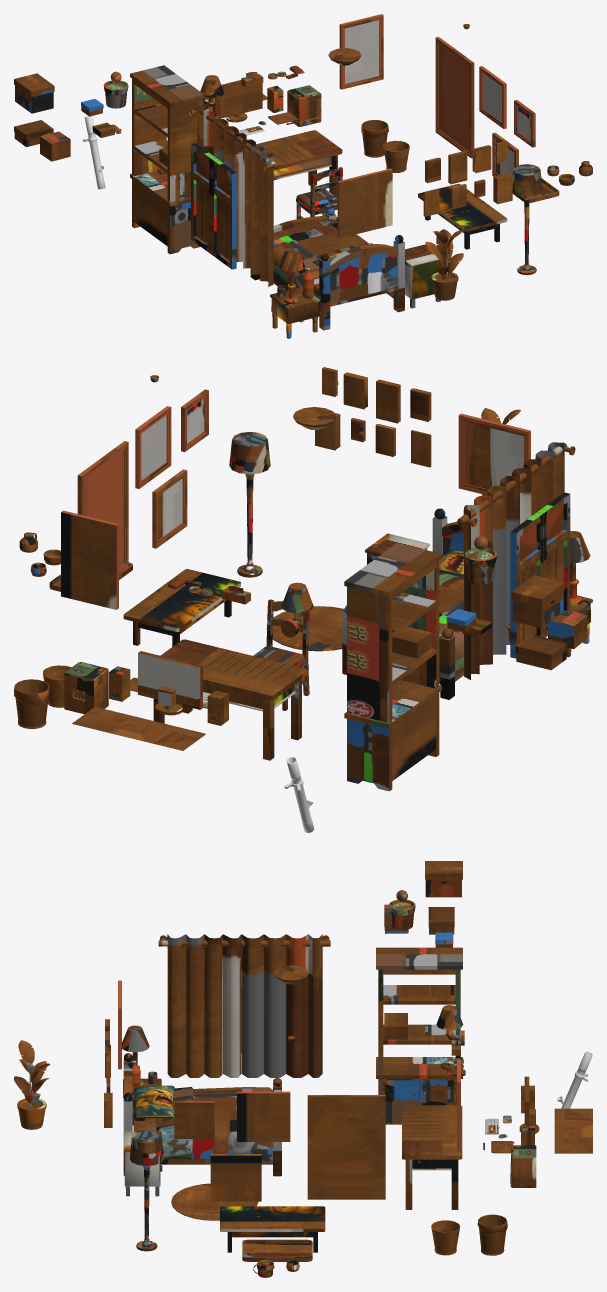
Rendered from Bedroom_Set1.fbx.
3 views of the same model, one above another, from view 1: azimuth 30°, elevation 25°; view 2: azimuth 150°, elevation 25°; view 3: azimuth 270°, elevation 25° (orthographic). The views are drawn at different scales.
Visible parts, largest first — view 1: Bedroom_Cabinet_Big, Bedroom_Bed, Bedroom_Window_Curtain, Bedroom_Wall_Picture.000, Bedroom_Wall_Picture.002, Bedroom_Table_Desktop, Bedroom_Wall_Picture.005, Bedroom_Window.L, Bedroom_Window.R, Bedroom_Short_Table, Bedroom_Cabinet_Small, Bedroom_Pot_Plant (+22 smaller); view 2: Bedroom_Cabinet_Big, Bedroom_Window_Curtain, Bedroom_Table_Desktop, Bedroom_Wall_Picture.005, Bedroom_Wall_Picture.002, Bedroom_Short_Table, Bedroom_Bed, Bedroom_Wall_Picture.000, Bedroom_PC_Monitor, Bedroom_Window.R, Bedroom_Mouse_Pad, Bedroom_Window.L (+27 smaller); view 3: Bedroom_Window_Curtain, Bedroom_Cabinet_Big, Bedroom_Wall_Picture.000, Bedroom_Bed, Bedroom_Table_Desktop, Bedroom_Short_Table, Bedroom_Wall_Picture.004, Bedroom_Wall_Picture.001, Bedroom_Pot_Plant, Bedroom_Mouse_Pad, Bedroom_Lamp_Tall, Bedroom_Water_Tray (+14 smaller).
Boxes of the visible parts, bbox=[...] form: Bedroom_Cabinet_Big: bbox=[130, 65, 204, 254]; Bedroom_Bed: bbox=[250, 207, 404, 330]; Bedroom_Window_Curtain: bbox=[189, 106, 278, 286]; Bedroom_Wall_Picture.000: bbox=[435, 36, 474, 158]; Bedroom_Wall_Picture.002: bbox=[337, 168, 392, 238]; Bedroom_Table_Desktop: bbox=[256, 130, 342, 197]; Bedroom_Wall_Picture.005: bbox=[339, 14, 383, 89]; Bedroom_Window.L: bbox=[211, 158, 236, 269]; Bedroom_Window.R: bbox=[191, 143, 215, 254]; Bedroom_Short_Table: bbox=[418, 183, 507, 249]; Bedroom_Cabinet_Small: bbox=[405, 244, 440, 308]; Bedroom_Pot_Plant: bbox=[425, 229, 463, 300]; Bedroom_Cabinet_Big: bbox=[344, 543, 441, 791]; Bedroom_Window_Curtain: bbox=[457, 442, 575, 679]; Bedroom_Table_Desktop: bbox=[153, 639, 307, 760]; Bedroom_Wall_Picture.005: bbox=[61, 510, 118, 609]; Bedroom_Wall_Picture.002: bbox=[458, 413, 530, 494]; Bedroom_Short_Table: bbox=[123, 569, 240, 646]; Bedroom_Bed: bbox=[342, 508, 463, 699]; Bedroom_Wall_Picture.000: bbox=[77, 441, 128, 573]; Bedroom_PC_Monitor: bbox=[138, 651, 202, 715]; Bedroom_Window.R: bbox=[510, 512, 543, 658]; Bedroom_Mouse_Pad: bbox=[72, 707, 205, 750]; Bedroom_Window.L: bbox=[537, 492, 570, 637]; Bedroom_Window_Curtain: bbox=[158, 934, 330, 1077]; Bedroom_Cabinet_Big: bbox=[376, 947, 462, 1124]; Bedroom_Wall_Picture.000: bbox=[307, 1095, 385, 1199]; Bedroom_Bed: bbox=[123, 1053, 281, 1176]; Bedroom_Table_Desktop: bbox=[402, 1105, 462, 1209]; Bedroom_Short_Table: bbox=[220, 1206, 325, 1252]; Bedroom_Wall_Picture.004: bbox=[237, 1091, 290, 1141]; Bedroom_Wall_Picture.001: bbox=[210, 1154, 261, 1201]; Bedroom_Pot_Plant: bbox=[14, 1040, 50, 1129]; Bedroom_Mouse_Pad: bbox=[554, 1108, 592, 1153]; Bedroom_Lamp_Tall: bbox=[129, 1130, 163, 1251]; Bedroom_Water_Tray: bbox=[242, 1239, 312, 1261].
Bounding box in the file's own units: 809 × 309 × 760.
